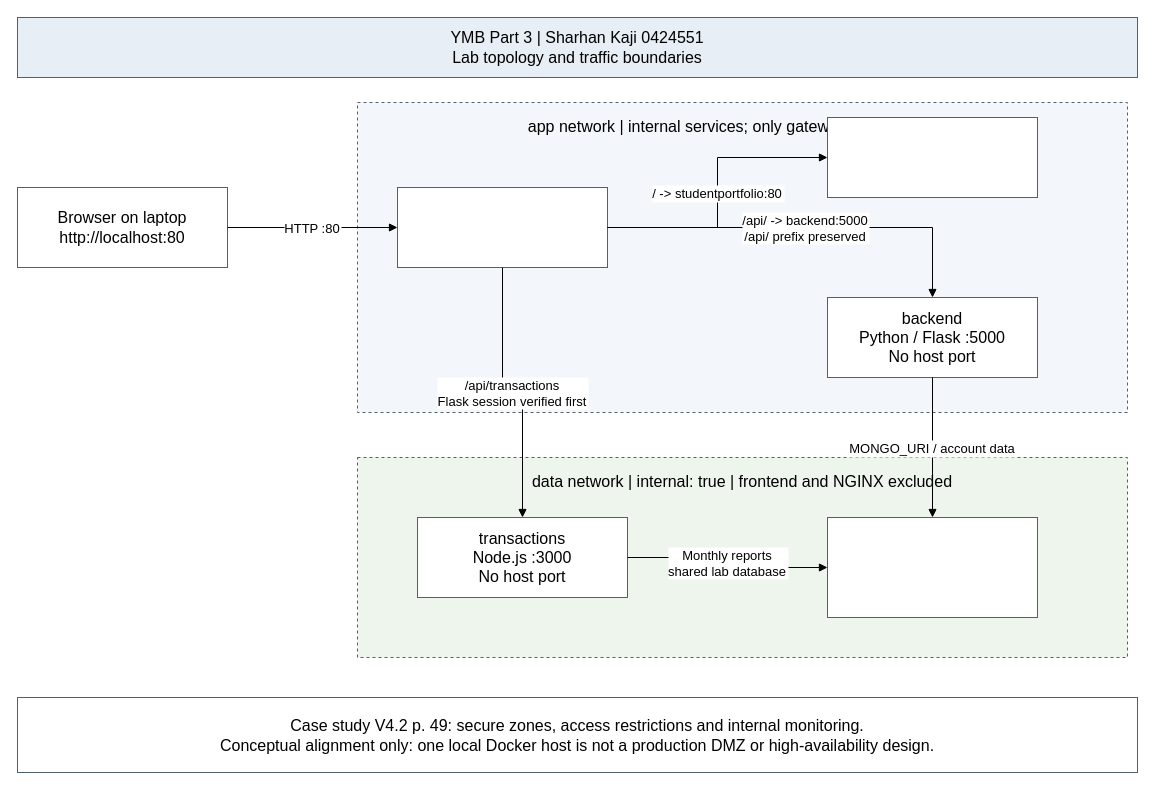
This 1155x790 diagram has some shape labels left out. Here are the shapes that lost their labels. From the top down, the centre of each, then its label:
At point 932,157: "studentportfolio Static HTML / NGINX :80 No host port".
At point 502,227: "NGINX gateway 127.0.0.1:80 published DMZ concept for lab".
At point 932,567: "mongo MongoDB :27017 Named volume mongo_data No host port".
